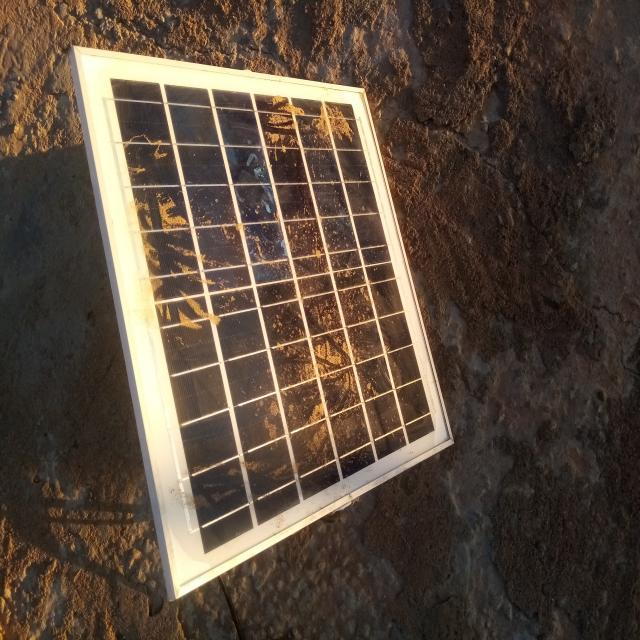faulty: (78, 51, 452, 595)
